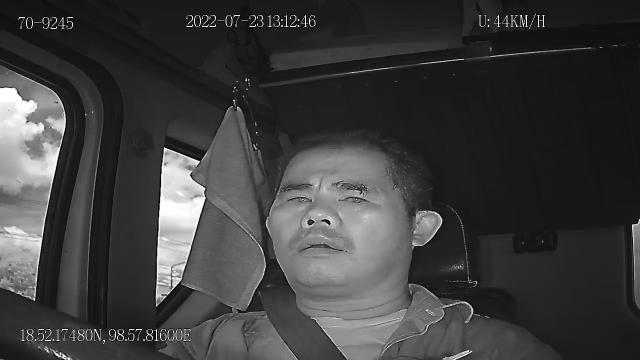SafeDriving: (332, 185, 378, 210), (278, 187, 316, 210)
Seatbelt: (256, 286, 350, 360)
